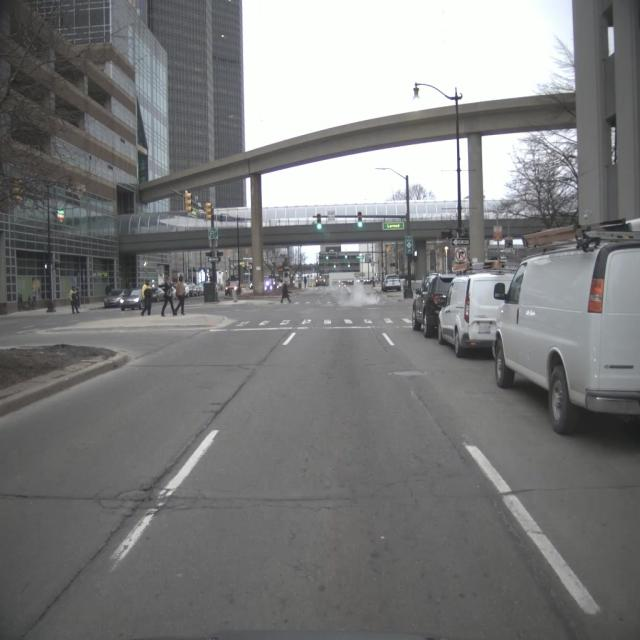humans: (162, 274, 176, 316), (177, 273, 188, 315), (142, 278, 151, 316), (69, 284, 79, 314), (281, 280, 290, 304), (303, 276, 307, 290)
